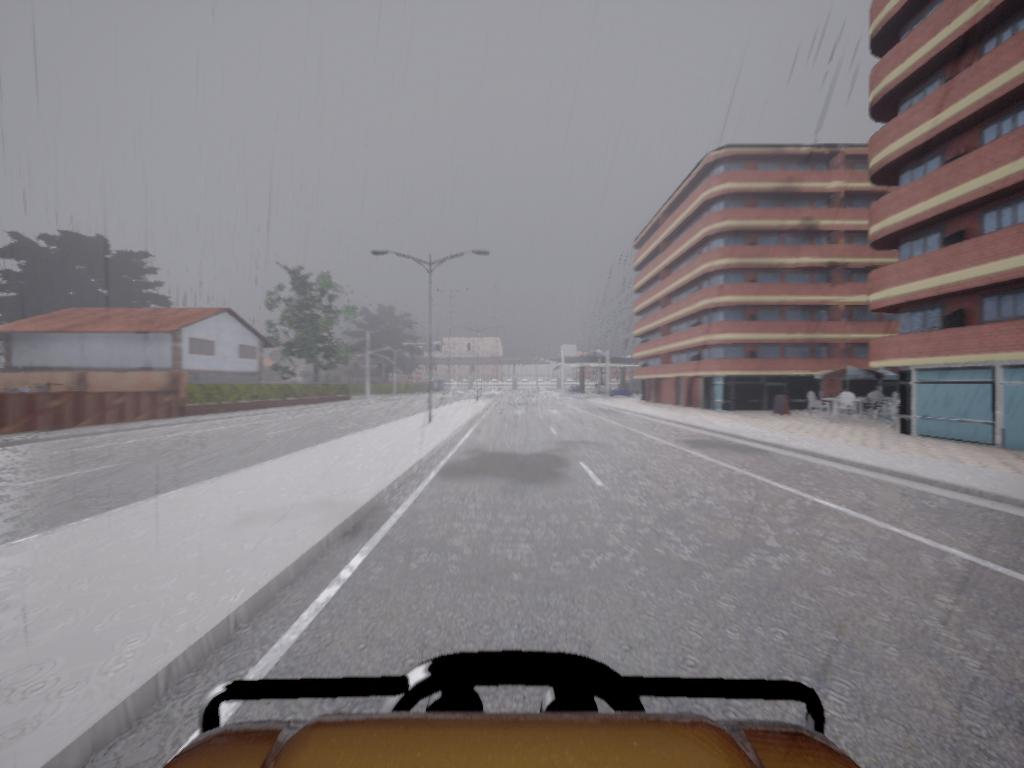traffic_light: (468, 343, 472, 353), (438, 345, 442, 353)
